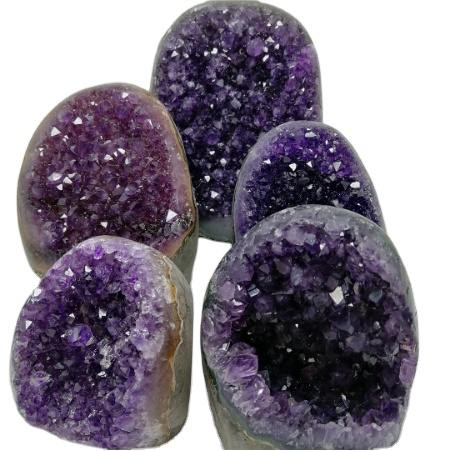Amethyst: (199, 205, 425, 451), (150, 0, 325, 243), (10, 235, 192, 448), (16, 82, 198, 282), (234, 119, 387, 228)
